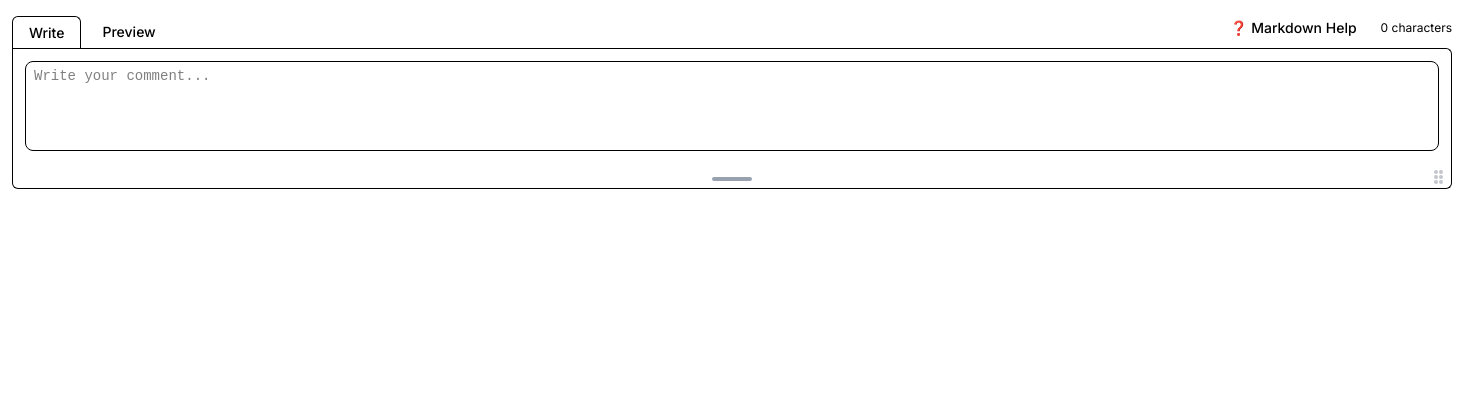
Scenario: CommentEditor › Markdown Help › shows help panel when help button is clicked
This screenshot has width=1464, height=402.
Click the button "❓ Markdown Help". click: click(1293, 28)
box: [1218, 12, 1368, 44]
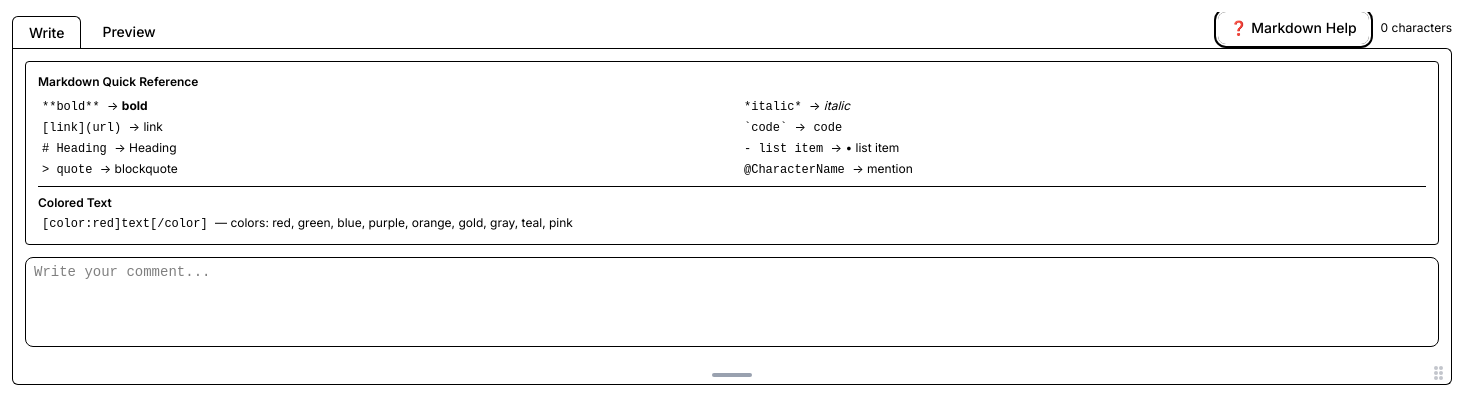
Expected: the text "Markdown Quick Reference" is shown, [38, 74, 198, 89]
